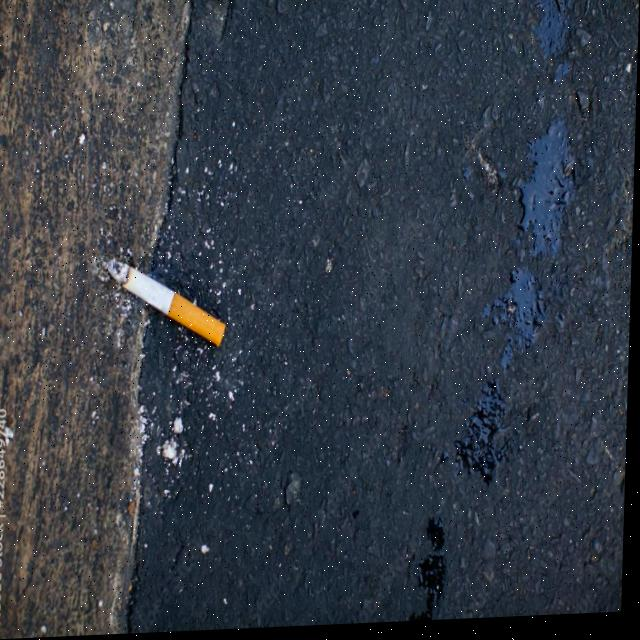cigarette: (105, 262, 227, 348)
